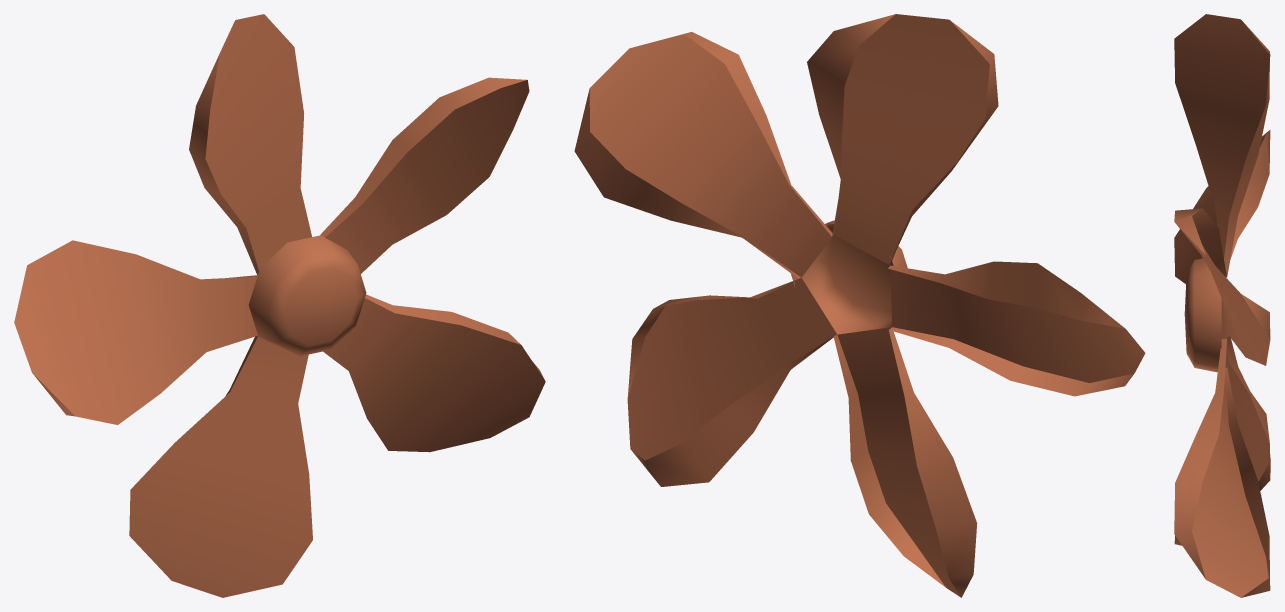
The model's file is mesh_AirConFan_v1.fbx.
3 views of the same model, side by side, from view 1: azimuth 30°, elevation 25°; view 2: azimuth 150°, elevation 25°; view 3: azimuth 270°, elevation 25° (orthographic). The views are drawn at different scales.
Visible parts, largest first — view 1: mesh_AirConFan; view 2: mesh_AirConFan; view 3: mesh_AirConFan.
Boxes of the visible parts, bbox=[...] form: mesh_AirConFan: bbox=[14, 14, 545, 597]; mesh_AirConFan: bbox=[574, 14, 1145, 597]; mesh_AirConFan: bbox=[1174, 14, 1270, 597].
Bounding box in the file's own units: 74.72 × 77.14 × 12.64.
